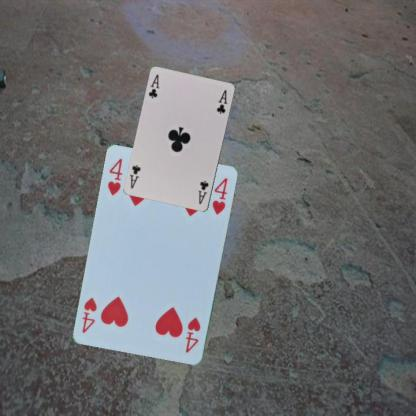4h: (105, 156, 124, 198), (183, 315, 202, 354)
Ac: (146, 72, 161, 100), (196, 178, 210, 206)
